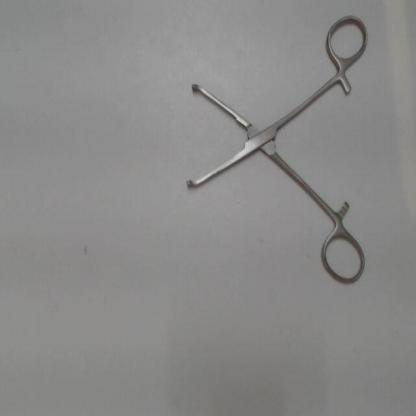Allis Tissue Forceps: (176, 8, 377, 295)
